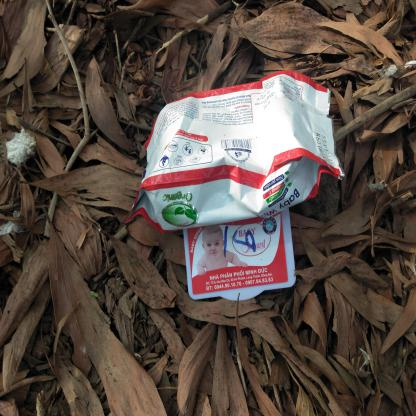Other plastic: (124, 70, 345, 234)
Other plastic bottle: (183, 207, 296, 301)
